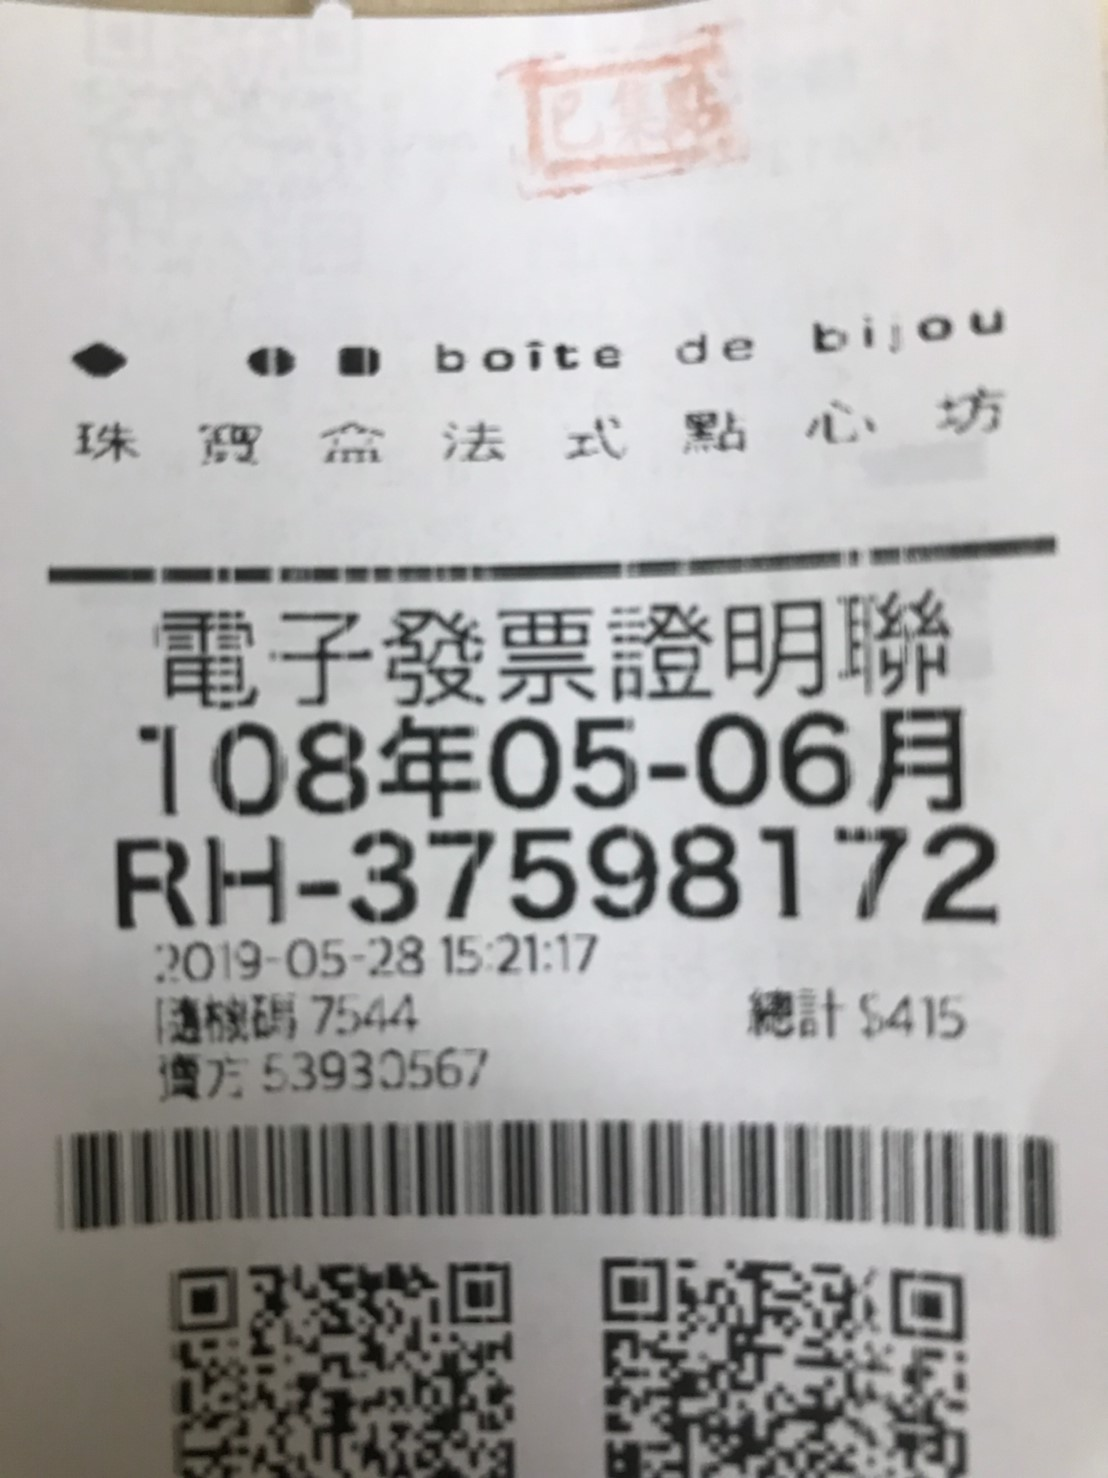Date_New: (132, 708, 975, 818)
Number_New: (347, 818, 997, 929)
